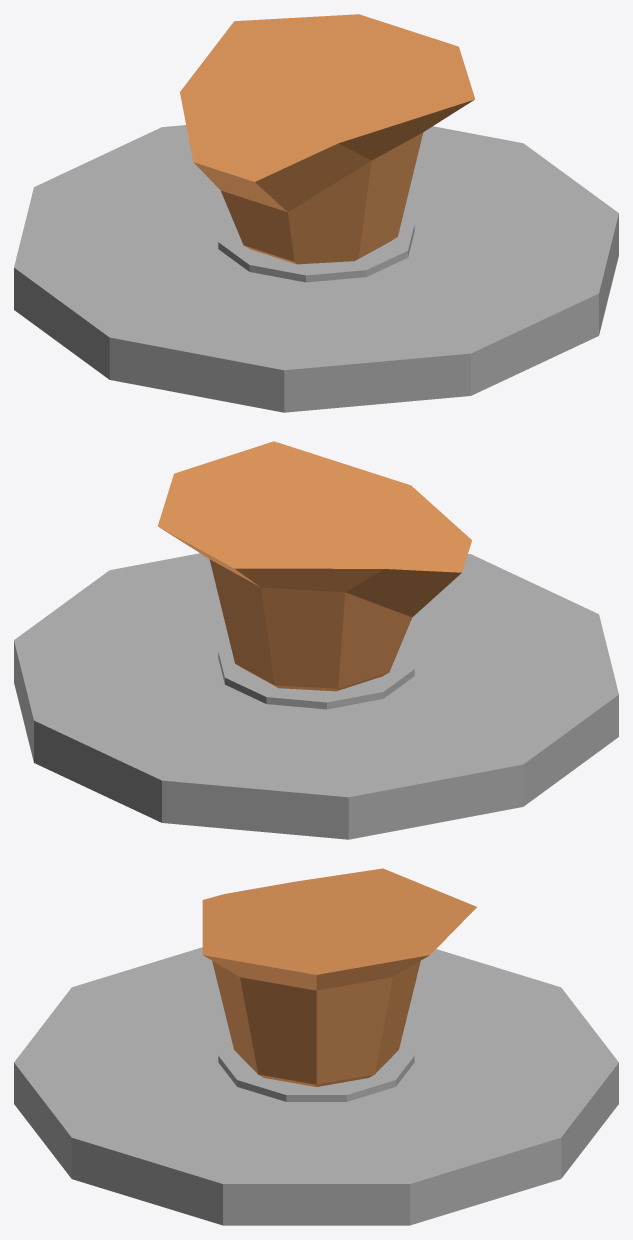
The model's file is PotteryWheel01.fbx.
The picture shows the model from 3 angles, top to bottom: view 1: azimuth 30°, elevation 25°; view 2: azimuth 150°, elevation 25°; view 3: azimuth 270°, elevation 25°; orthographic projection. The views are drawn at different scales.
Visible parts, largest first — view 1: PotteryWheel01; view 2: PotteryWheel01; view 3: PotteryWheel01.
Part boxes in pixels (left/top/right/bottom): PotteryWheel01: left=14, top=14, right=618, bottom=412; PotteryWheel01: left=14, top=441, right=618, bottom=839; PotteryWheel01: left=14, top=868, right=618, bottom=1225.
Bounding box in the file's own units: 358 × 184 × 376.
